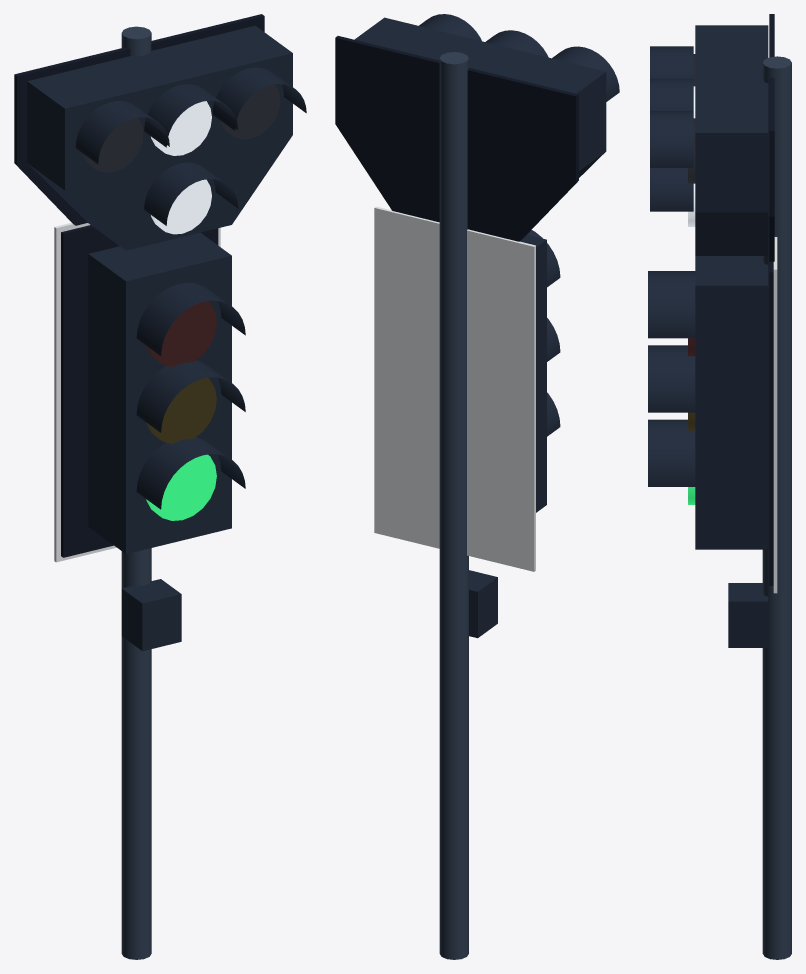
File: light_0.glb
The picture shows the model from 3 angles, left to right: view 1: azimuth 30°, elevation 25°; view 2: azimuth 150°, elevation 25°; view 3: azimuth 270°, elevation 25°; orthographic projection. The views are drawn at different scales.
Parts seen in each view (by area): view 1: c1e293b (×13), c111827 (×2), c334155, cf1f5f9, lamp_green:c36ff88, lamp_red:c351719, lamp_yellow:c352d14, lamp_tram_left:c20252c, lamp_tram_bottom:ceaf4fc, lamp_tram_right:c20252c, lamp_tram_mid:ceaf4fc; view 2: cf1f5f9, c111827, c334155, c1e293b (×6); view 3: c1e293b (×11), c334155, c111827 (×2), cf1f5f9.
Part boxes in pixels (left/top/right/bottom): c1e293b (×13): left=27, top=25, right=306, bottom=651; c111827 (×2): left=14, top=14, right=264, bottom=557; c334155: left=121, top=26, right=151, bottom=959; cf1f5f9: left=54, top=222, right=220, bottom=562; lamp_green:c36ff88: left=146, top=454, right=216, bottom=520; lamp_red:c351719: left=146, top=301, right=216, bottom=367; lamp_yellow:c352d14: left=146, top=378, right=216, bottom=443; lamp_tram_left:c20252c: left=82, top=117, right=143, bottom=172; lamp_tram_bottom:ceaf4fc: left=151, top=179, right=211, bottom=234; lamp_tram_right:c20252c: left=219, top=84, right=280, bottom=139; lamp_tram_mid:ceaf4fc: left=151, top=101, right=211, bottom=155; cf1f5f9: left=374, top=206, right=535, bottom=571; c111827: left=335, top=36, right=578, bottom=241; c334155: left=439, top=52, right=468, bottom=959; c1e293b (×6): left=354, top=14, right=619, bottom=638; c1e293b (×11): left=648, top=25, right=768, bottom=647; c334155: left=762, top=56, right=791, bottom=959; c111827 (×2): left=769, top=14, right=774, bottom=585; cf1f5f9: left=773, top=237, right=777, bottom=593.
Bounding box in the file's own units: 1.52 × 5.4 × 0.79.
